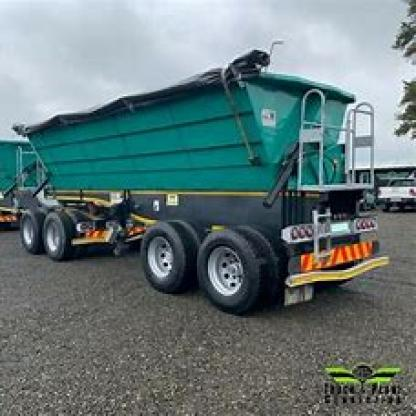dump_truck: (6, 58, 414, 324)
